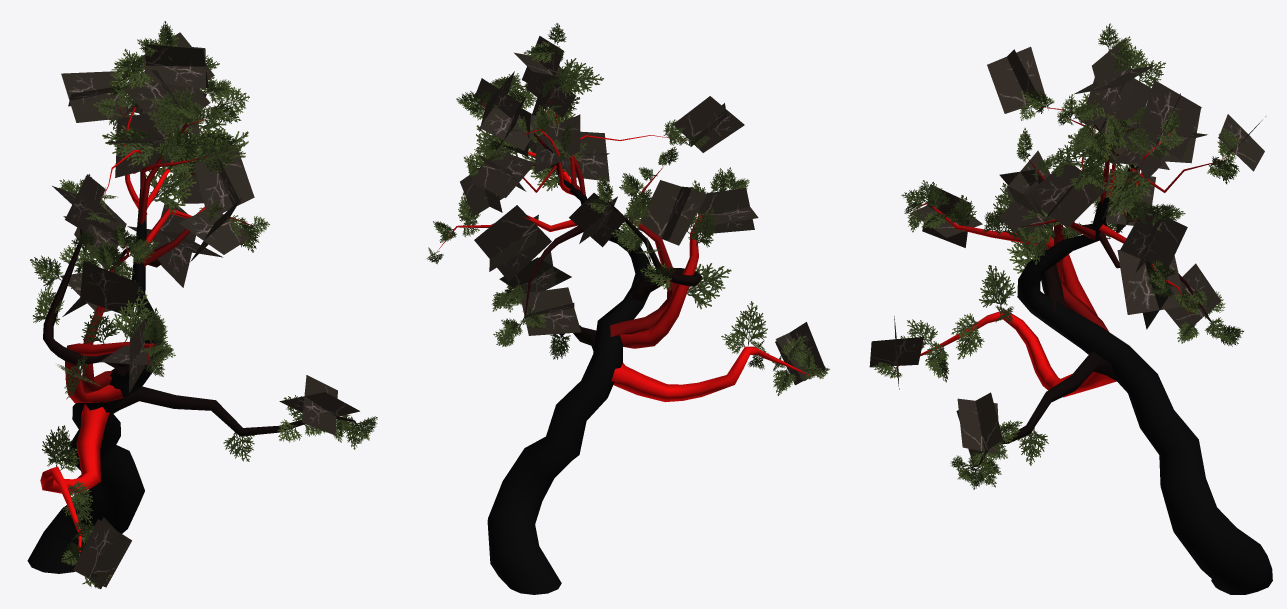
Rendered from cpine3 lod0.FBX.
3 renders of one model, left to right at view 1: azimuth 30°, elevation 25°; view 2: azimuth 150°, elevation 25°; view 3: azimuth 270°, elevation 25°, orthographic. The views are drawn at different scales.
Parts seen in each view (by area): view 1: cpine3; view 2: cpine3; view 3: cpine3.
Boxes of the visible parts, x1=… form: cpine3: x1=27, y1=21, x2=377, y2=589; cpine3: x1=426, y1=23, x2=829, y2=594; cpine3: x1=869, y1=23, x2=1272, y2=594.
Bounding box in the file's own units: 104681 × 164595 × 104880.
